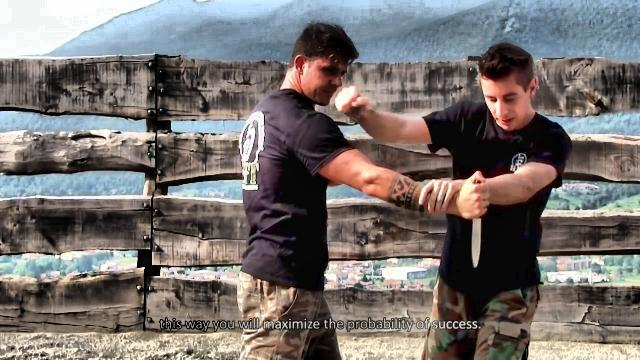knife: (464, 168, 490, 268)
